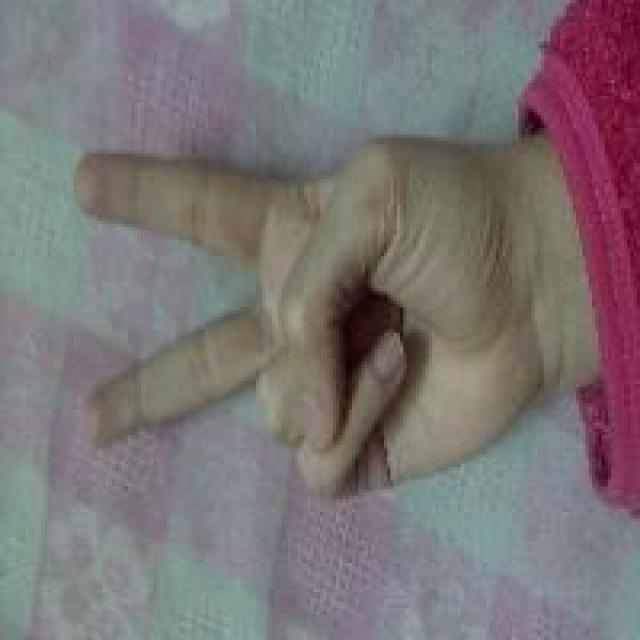V: (129, 62, 516, 524)
